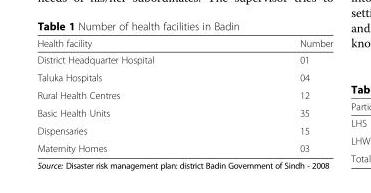table: (36, 37, 332, 153)
table column: (36, 37, 226, 153), (226, 37, 332, 153)
table column header: (36, 37, 332, 51)
table row: (36, 68, 332, 86), (36, 103, 332, 121), (36, 121, 332, 139), (36, 51, 332, 68), (36, 86, 332, 103), (36, 37, 332, 51), (36, 139, 332, 153)
